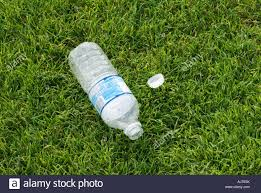plastic_bottle: (65, 36, 156, 142)
